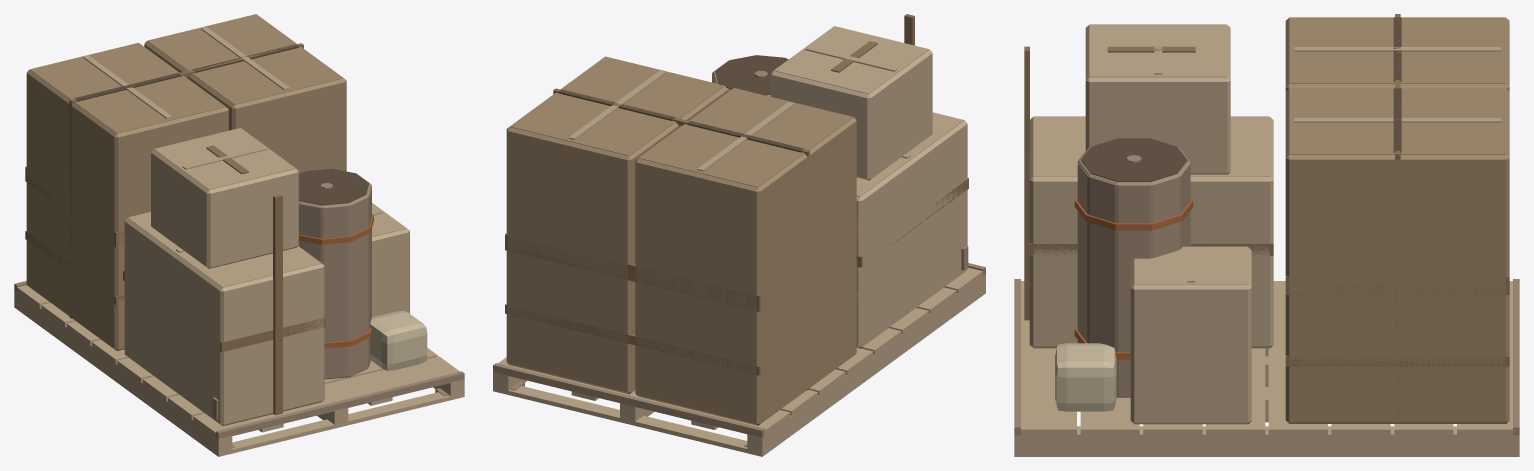
The model's file is cargo_stack_pallet_sand.glb.
3 views of the same model, side by side, from view 1: azimuth 30°, elevation 25°; view 2: azimuth 150°, elevation 25°; view 3: azimuth 270°, elevation 25° (orthographic). The views are drawn at different scales.
Visible parts, largest first — view 1: StackPallet_Body; view 2: StackPallet_Body; view 3: StackPallet_Body.
Part boxes in pixels (x1,y1,x2,y2): StackPallet_Body: (14, 14, 464, 456); StackPallet_Body: (493, 14, 985, 456); StackPallet_Body: (1014, 14, 1519, 456).
Size of the model in its own units: 1.6 by 1.5 by 2.3.
